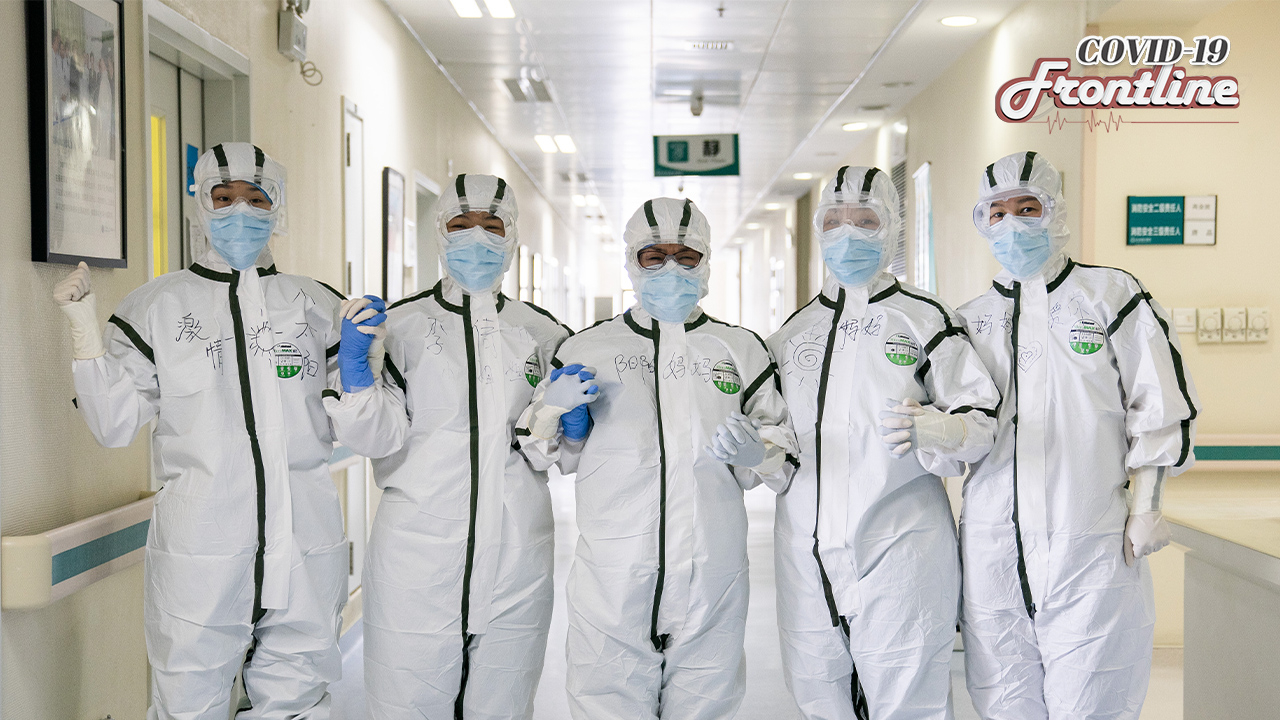Coverall: (959, 273, 1175, 720), (137, 274, 336, 720), (773, 275, 959, 720), (355, 295, 550, 718), (563, 311, 756, 719)
Gloves: (329, 288, 395, 402), (875, 396, 976, 467), (534, 360, 603, 459), (1118, 464, 1176, 580), (53, 265, 111, 365), (706, 409, 768, 475)
Goggles: (190, 169, 288, 218), (628, 225, 712, 277), (969, 195, 1053, 241), (815, 196, 893, 244), (440, 200, 516, 244)
with_mask: (978, 199, 1055, 276), (439, 213, 513, 293), (634, 248, 708, 326), (206, 185, 274, 269), (819, 208, 891, 284)
